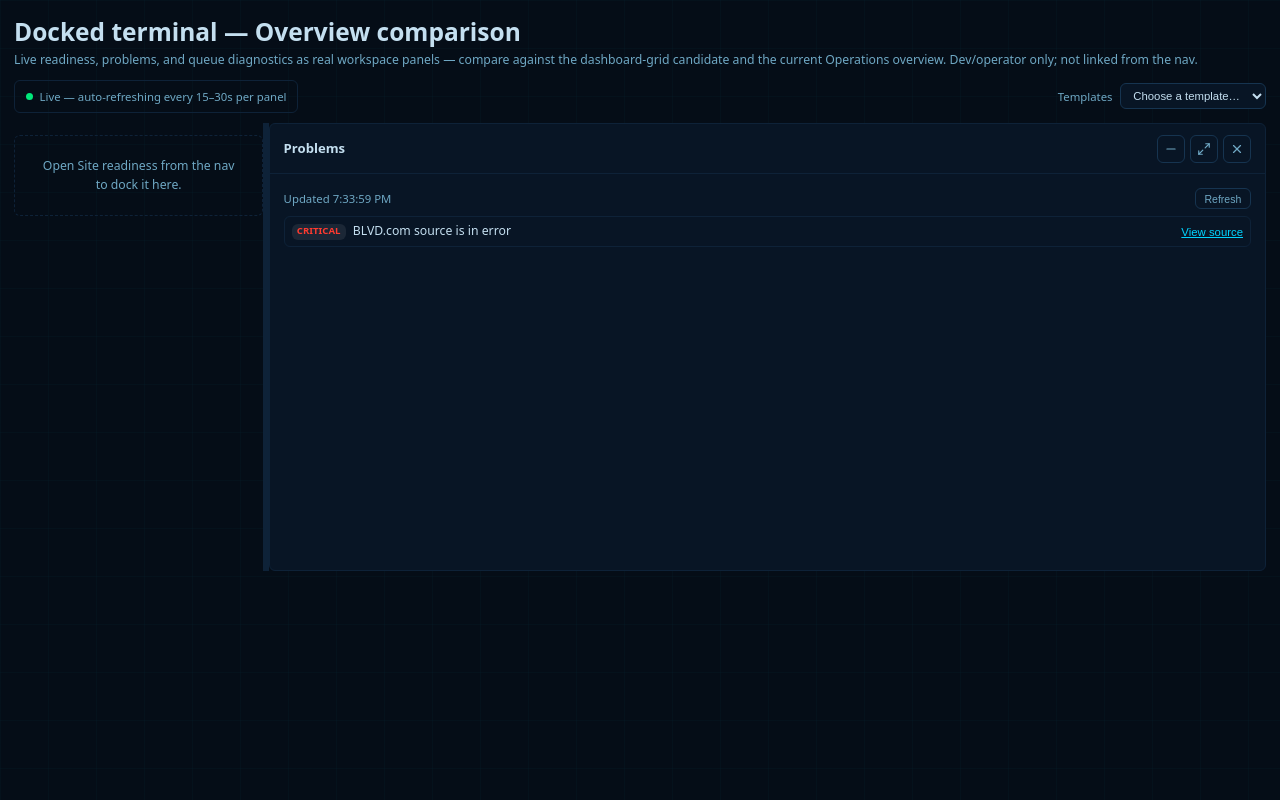
Test: DockedTerminalClient (#913) › opening a problem's source link opens/focuses a source panel while problems stays open
The width and height of the screenshot is (1280, 800).
Click the button "View source": (1212, 232) [1181,226,1243,238]
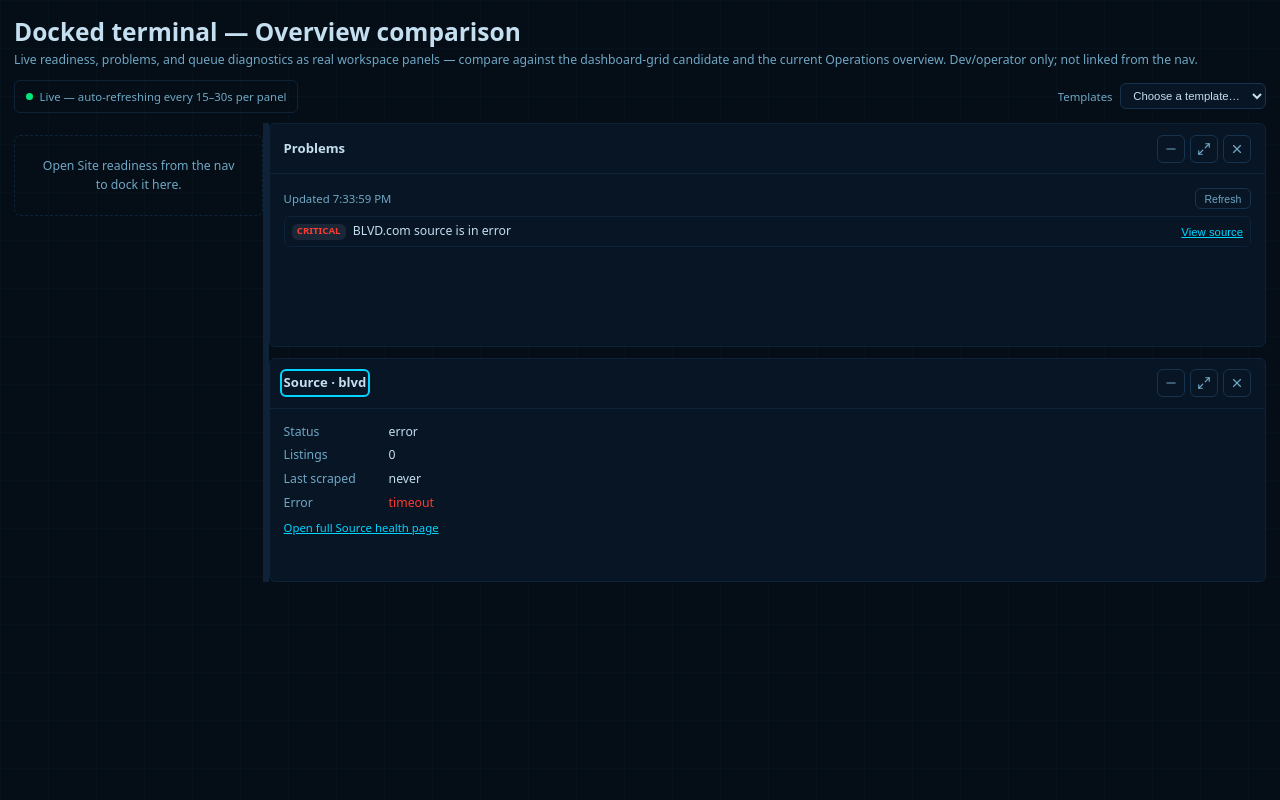
expect the element "Problems" is shown: met, box [269,123,1266,347]
expect the element "Source · blvd" is shown: met, box [269,358,1266,582]
